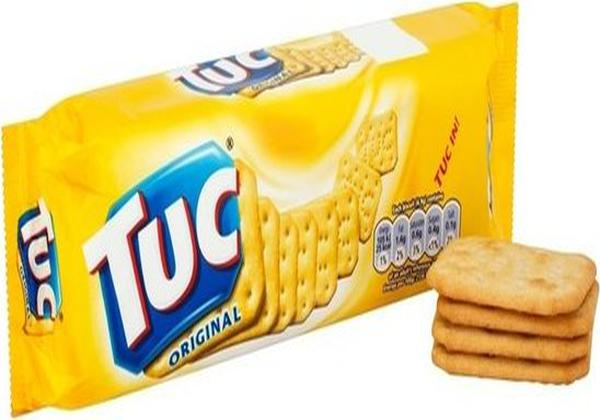crackers tuc: (1, 19, 515, 404)
